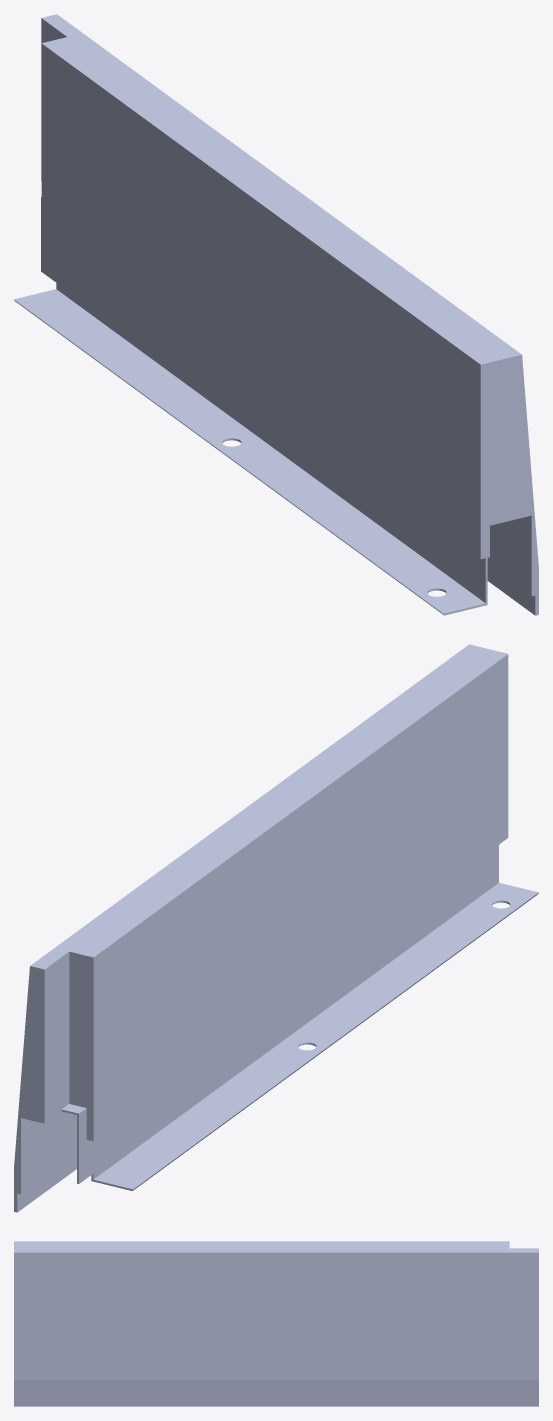
File: mv-kava-M300-m.glb
3 views of the same model, one above another, from view 1: azimuth 30°, elevation 25°; view 2: azimuth 150°, elevation 25°; view 3: azimuth 270°, elevation 25° (orthographic). The views are drawn at different scales.
Visible parts, largest first — view 1: 48294917; view 2: 48294917; view 3: 48294917.
Part boxes in pixels (bbox=[...]): 48294917: bbox=[14, 14, 538, 615]; 48294917: bbox=[14, 644, 538, 1212]; 48294917: bbox=[14, 1241, 538, 1406].
Bounding box in the file's own units: 0.0335 × 0.091 × 0.2902.
